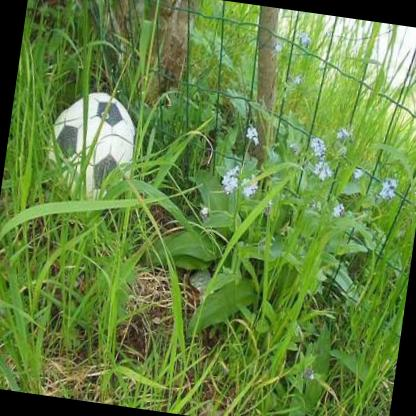ball: (38, 85, 144, 213)
